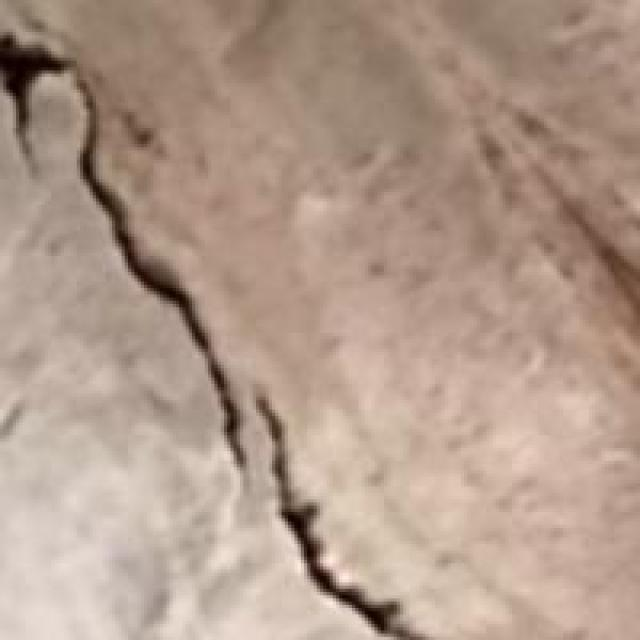crack: (0, 35, 419, 637)
